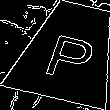P_N: (38, 22, 100, 81)
